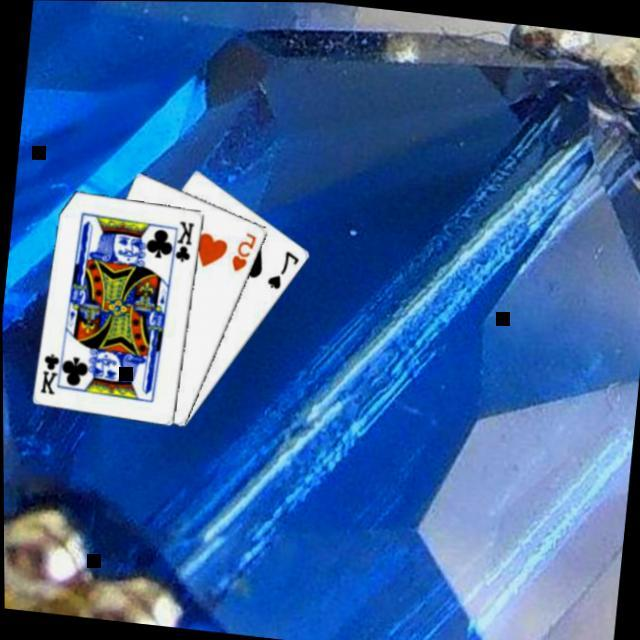5H: (228, 225, 261, 274)
7S: (263, 242, 304, 291)
KC: (167, 214, 198, 266), (37, 344, 68, 396)
